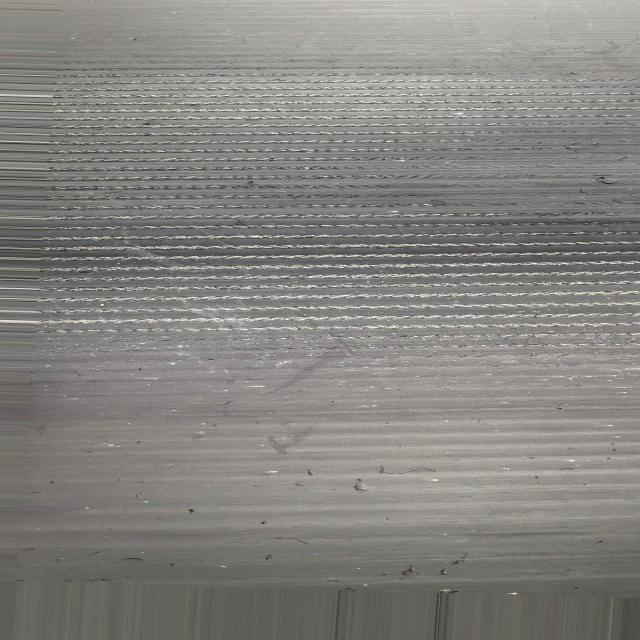impact damage: (1, 69, 640, 350)
